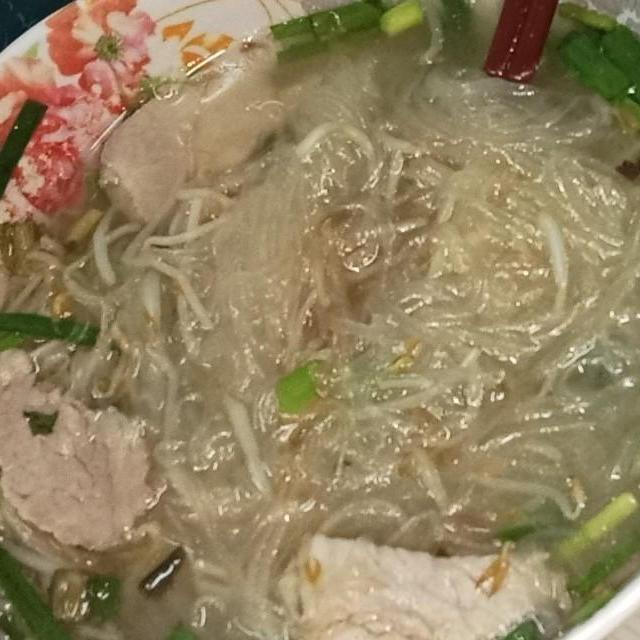banh hu tieu: (363, 62, 640, 561), (149, 55, 402, 548)
hu tieu: (0, 0, 640, 640)
thit heo: (91, 46, 332, 238), (271, 524, 583, 640), (0, 344, 168, 556)
